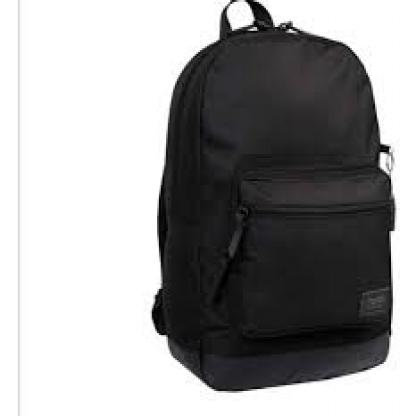morral: (134, 2, 402, 395)
